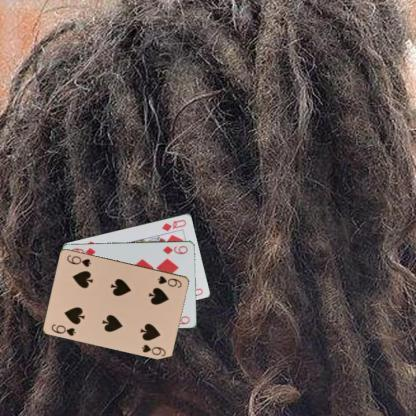6s: (154, 273, 184, 289), (49, 321, 77, 337)
9d: (160, 244, 190, 256)
Qd: (160, 216, 188, 233)
